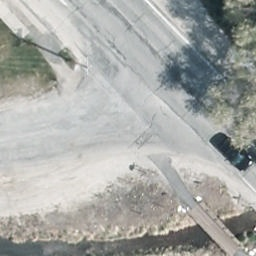car: (215, 136, 254, 170)
